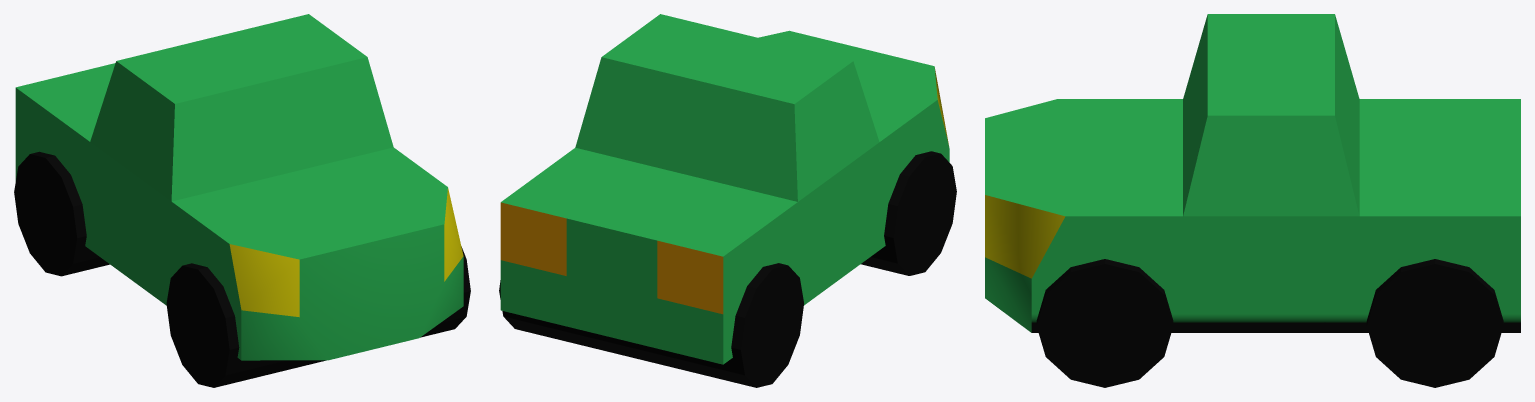
The model's file is lowPolyCar2.fbx.
3 views of the same model, side by side, from view 1: azimuth 30°, elevation 25°; view 2: azimuth 150°, elevation 25°; view 3: azimuth 270°, elevation 25° (orthographic). The views are drawn at different scales.
Parts seen in each view (by area): view 1: pCube1, pCylinder1, pCylinder2; view 2: pCube1, pCylinder2, pCylinder1; view 3: pCube1, pCylinder1, pCylinder2.
Boxes of the visible parts, box(x1,y1,x2,y2) form: pCube1: box(15, 14, 463, 360); pCylinder1: box(166, 246, 470, 387); pCylinder2: box(14, 151, 109, 276); pCube1: box(500, 14, 949, 364); pCylinder2: box(499, 263, 803, 387); pCylinder1: box(861, 151, 956, 275); pCube1: box(985, 14, 1520, 332); pCylinder1: box(1036, 259, 1173, 387); pCylinder2: box(1366, 259, 1503, 387).
Bounding box in the file's own units: 1.09 × 1.03 × 1.93.
